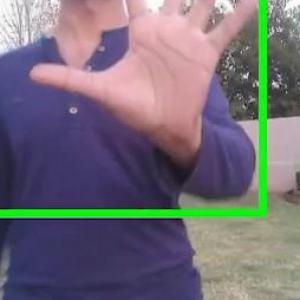follow_hand: (27, 0, 268, 150)
